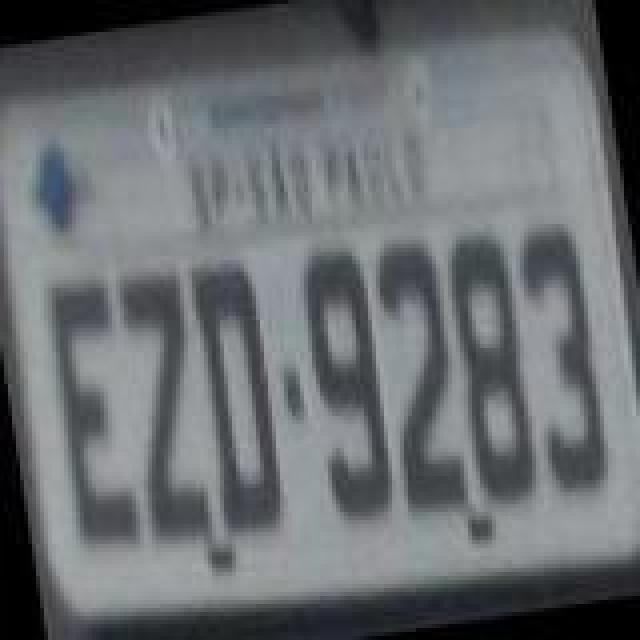2: (366, 232, 482, 520)
3: (504, 214, 616, 506)
8: (440, 222, 544, 514)
9: (290, 238, 406, 530)
D: (182, 250, 298, 542)
E: (40, 268, 152, 564)
Z: (108, 260, 220, 556)
